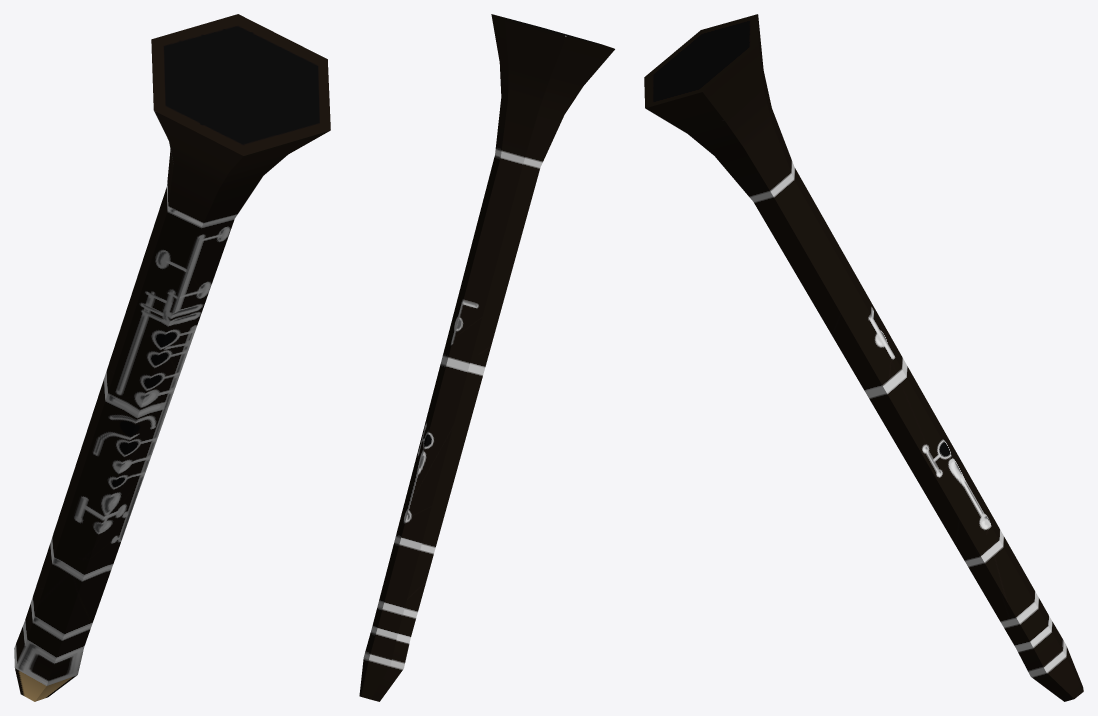
The model's file is flauta3_000015.obj.
3 renders of one model, left to right at view 1: azimuth 30°, elevation 25°; view 2: azimuth 150°, elevation 25°; view 3: azimuth 270°, elevation 25°, orthographic. The views are drawn at different scales.
Visible parts, largest first — view 1: f3_Flauta_3:Flauta_2:Flauta_1:pCylinder3; view 2: f3_Flauta_3:Flauta_2:Flauta_1:pCylinder3; view 3: f3_Flauta_3:Flauta_2:Flauta_1:pCylinder3.
Boxes of the visible parts, box(x1,y1,x2,y2) form: f3_Flauta_3:Flauta_2:Flauta_1:pCylinder3: box(14, 14, 330, 701); f3_Flauta_3:Flauta_2:Flauta_1:pCylinder3: box(359, 14, 614, 701); f3_Flauta_3:Flauta_2:Flauta_1:pCylinder3: box(644, 14, 1083, 701).
Bounding box in the file's own units: 1.19 × 5.37 × 3.25.
